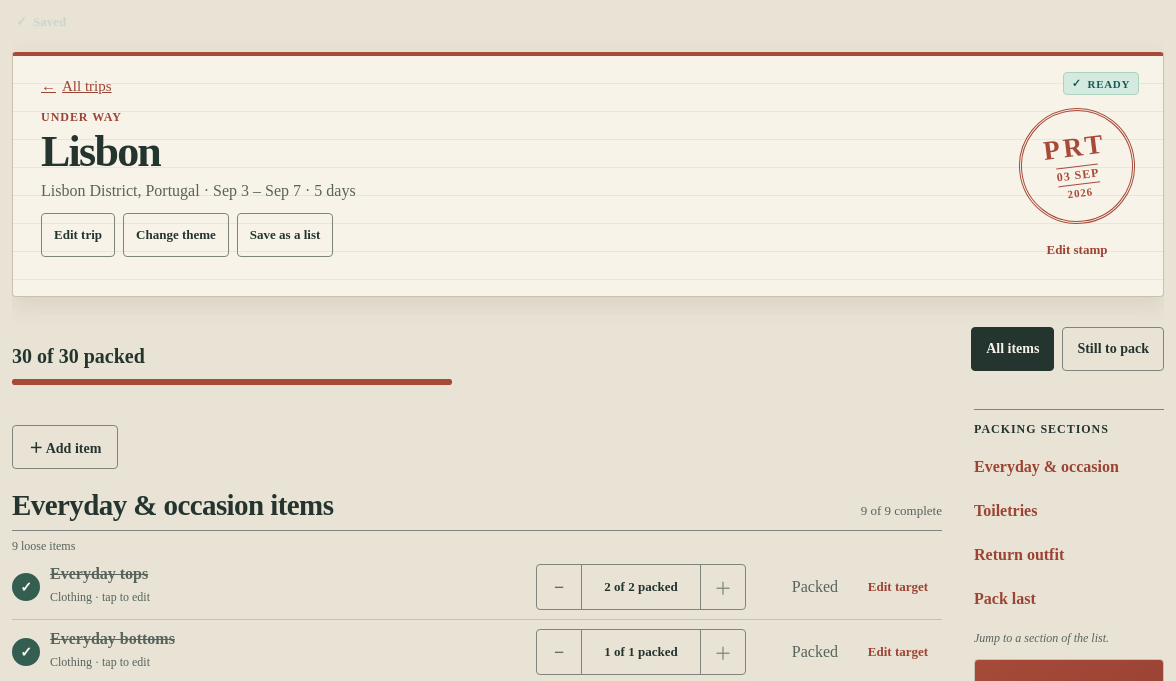
Test: filters › an emptied section shows 'Nothing left in this section.'
The width and height of the screenshot is (1176, 681).
Click the button "Still to pack": (1113, 349) [1062,327,1164,371]
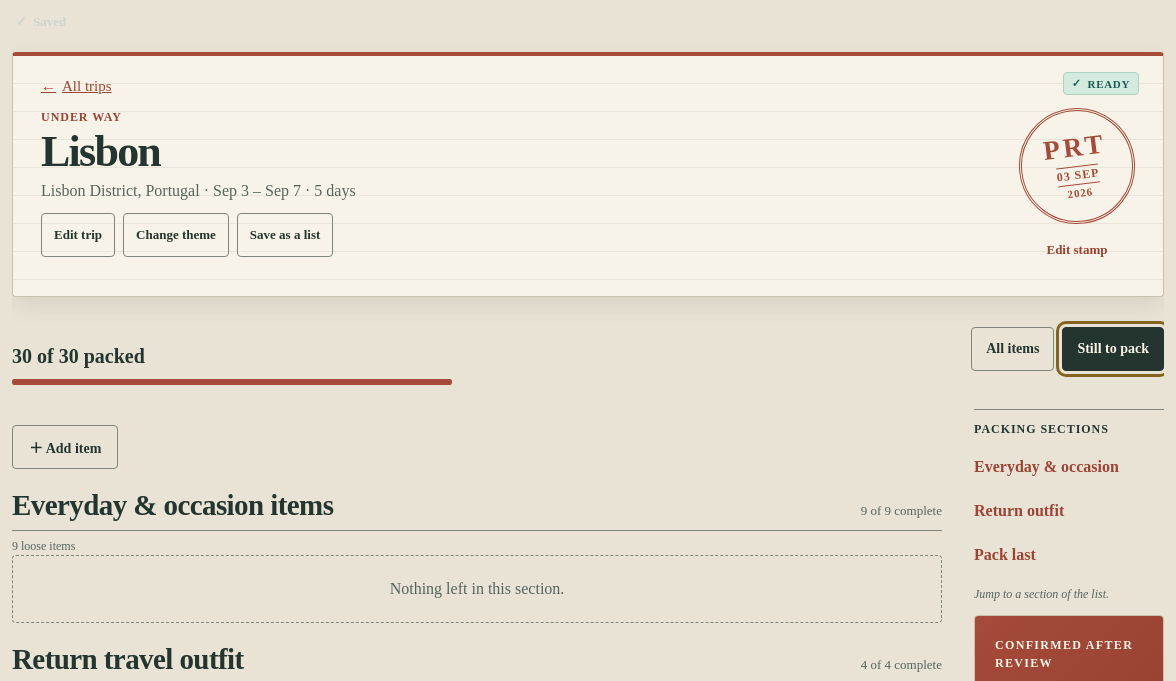
Expected: the heading "Toiletries" is not shown
Expected: the text "Nothing left in this section." below "9 loose items" is shown, [390,580,564,597]
